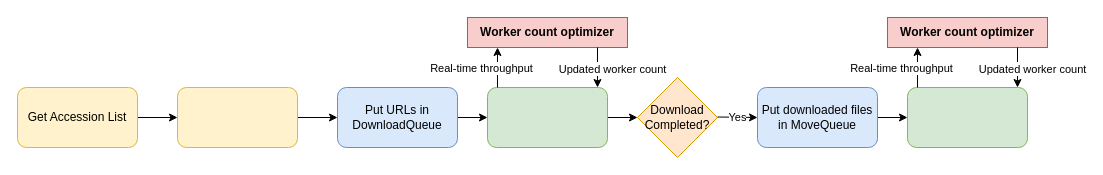
This 1103x175 diagram has some shape labels left out. The centre of each missing label's shape, as x and y in pixels:
"Download Workers download the files to temporary directory" belongs at point 547,117.
"Get URLs through API" belongs at point 237,117.
"Move Workers move the files to the intended directory" belongs at point 967,117.
